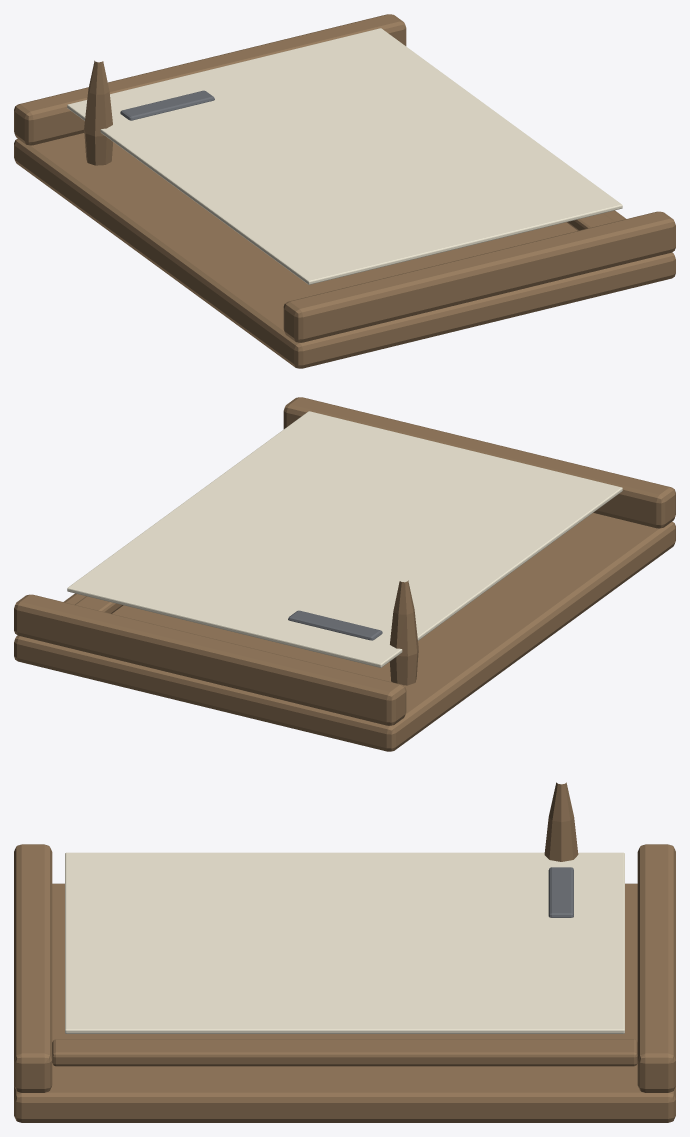
Rendered from monastery_ruling_board.glb.
3 renders of one model, top to bottom at view 1: azimuth 30°, elevation 25°; view 2: azimuth 150°, elevation 25°; view 3: azimuth 270°, elevation 25°, orthographic. The views are drawn at different scales.
Visible parts, largest first — view 1: world; view 2: world; view 3: world.
Boxes of the visible parts, <box> form: world: <box>14,14,675,368</box>; world: <box>14,397,675,751</box>; world: <box>14,782,675,1122</box>.
Size of the model in its own units: 1.54 by 0.5001 by 2.
